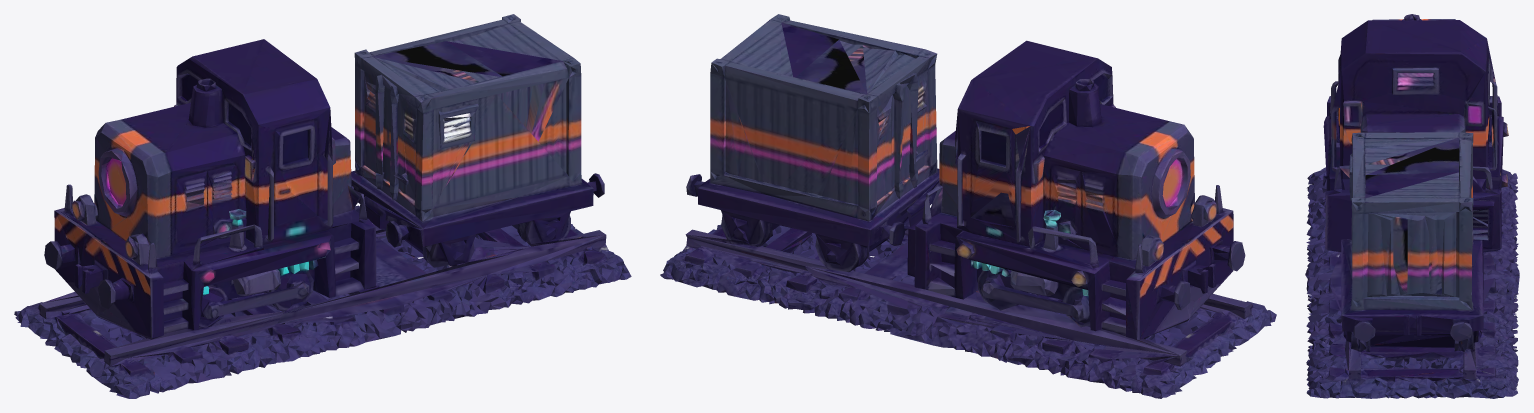
Rendered from prop-locomotive.glb.
3 renders of one model, left to right at view 1: azimuth 30°, elevation 25°; view 2: azimuth 150°, elevation 25°; view 3: azimuth 270°, elevation 25°, orthographic. The views are drawn at different scales.
Parts seen in each view (by area): view 1: output_unwrapped; view 2: output_unwrapped; view 3: output_unwrapped.
Part boxes in pixels (x1,y1,x2,y2): output_unwrapped: (14, 14, 631, 398); output_unwrapped: (660, 14, 1276, 398); output_unwrapped: (1305, 14, 1519, 398).
Bounding box in the file's own units: 1.89 × 0.863 × 0.7592.
Materials: 1 (1 with a texture image).
